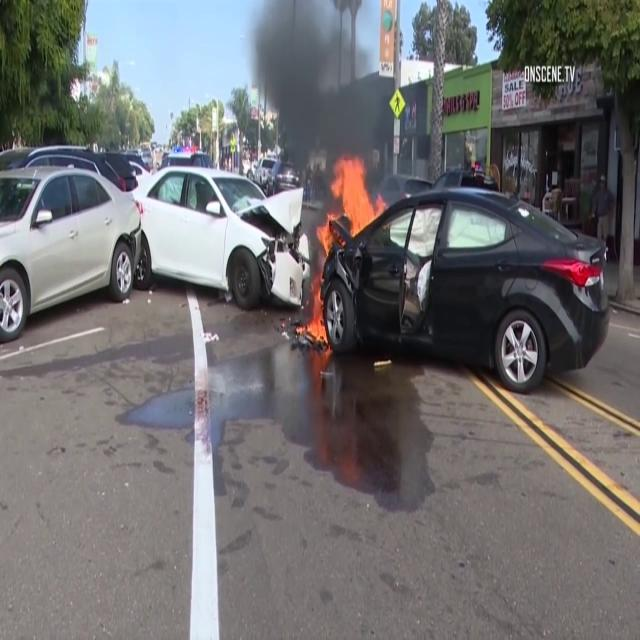Fire: (333, 154, 381, 242), (306, 224, 336, 341)
Smoke: (250, 8, 391, 169)
